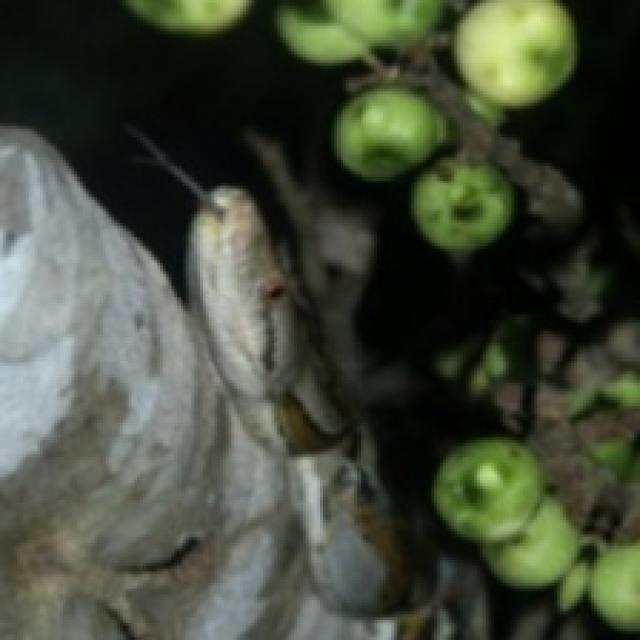reticulated python: (126, 126, 406, 614)
